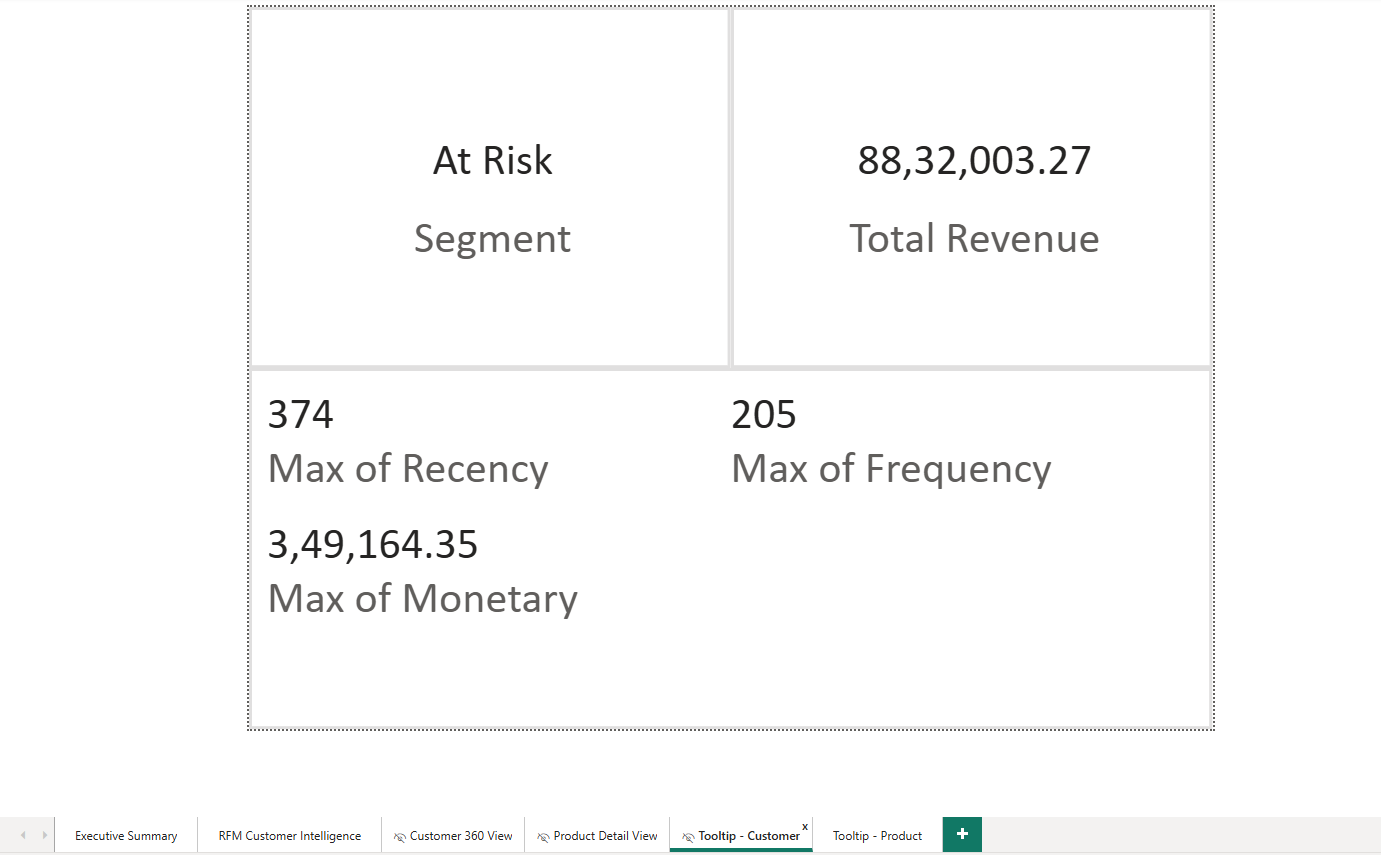

Layout of this report page (visuals, bound fields, positions):
{"tool":"powerbi","page":{"name":"Tooltip - Customer","canvas":[320,240],"ordinal":4},"visuals":[{"type":"card","fields":{"Values":["Min(customer_rfm.rfm_segment)"]},"box":[0,0,160,120],"z":0},{"type":"card","fields":{"Values":["fact_sales.Total Revenue"]},"box":[160,0,160,120],"z":1000},{"type":"multiRowCard","fields":{"Values":["customer_rfm.recency","customer_rfm.frequency","customer_rfm.monetary"]},"box":[0,120,320,120],"z":1001}]}

Visuals, with their boxes on the page's 320x240 design canvas (x1, y1, x2, y2). These are canvas units, not pixel positions in the 1381x855 screenshot, which may show the page scaled, cropped or inside an application window:
card - Min(customer_rfm.rfm_segment): <bbox>0, 0, 160, 120</bbox>
card - fact_sales.Total Revenue: <bbox>160, 0, 320, 120</bbox>
multiRowCard - customer_rfm.recency x customer_rfm.frequency: <bbox>0, 120, 320, 240</bbox>
